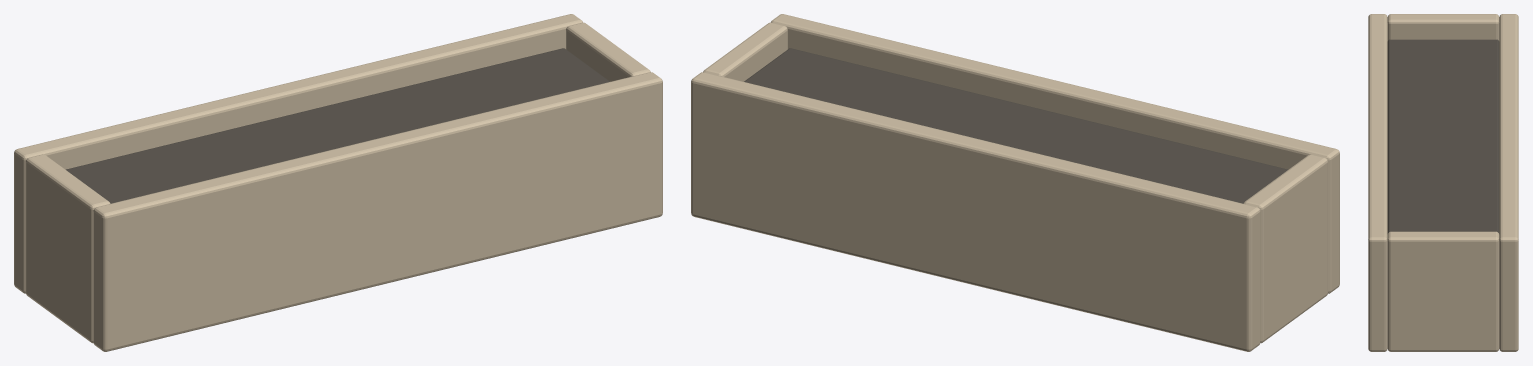
Rendered from planter-trough.glb.
3 renders of one model, left to right at view 1: azimuth 30°, elevation 25°; view 2: azimuth 150°, elevation 25°; view 3: azimuth 270°, elevation 25°, orthographic. The views are drawn at different scales.
Visible parts, largest first — view 1: trough_n, trough_soil, trough_s, trough_w, trough_e; view 2: trough_s, trough_soil, trough_n, trough_w, trough_e; view 3: trough_soil, trough_e, trough_n, trough_s, trough_w.
Boxes of the visible parts, x1,y1,x2,y2 form: trough_n: (93, 72, 662, 351); trough_soil: (66, 48, 609, 203); trough_s: (14, 14, 582, 293); trough_w: (26, 154, 110, 343); trough_e: (566, 22, 650, 81); trough_s: (691, 72, 1260, 351); trough_soil: (744, 48, 1287, 203); trough_n: (771, 14, 1339, 293); trough_w: (1243, 154, 1327, 343); trough_e: (703, 22, 787, 81); trough_soil: (1387, 39, 1499, 233); trough_e: (1387, 231, 1499, 351); trough_n: (1368, 14, 1387, 351); trough_s: (1499, 14, 1518, 351); trough_w: (1387, 14, 1499, 40).
Size of the model in its own units: 2.2 by 0.52 by 0.62.
